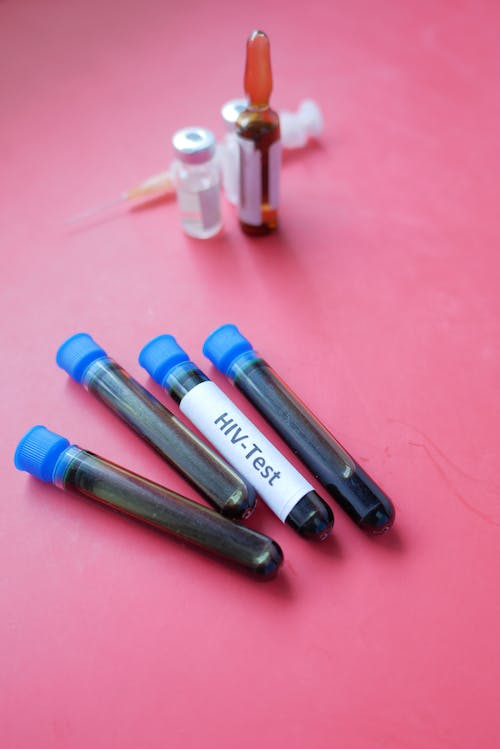blood: (222, 349, 398, 539), (49, 442, 286, 582), (162, 359, 334, 543), (78, 353, 257, 522)
